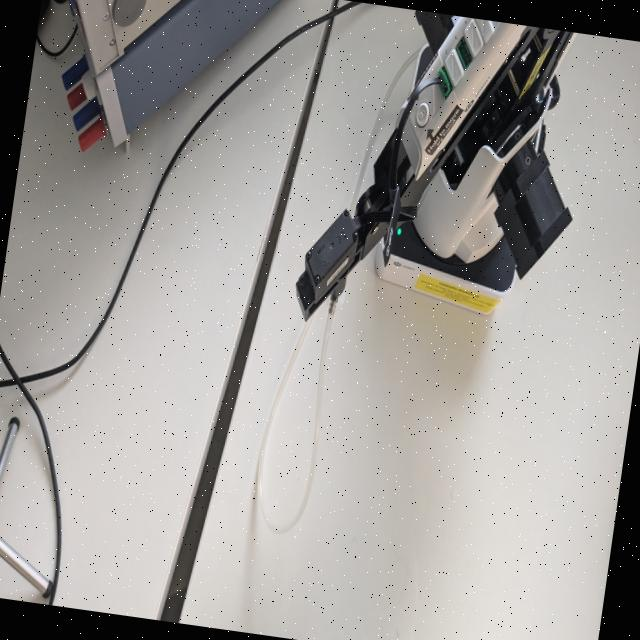Robot-end-effector-HF8z: (288, 201, 366, 328)
